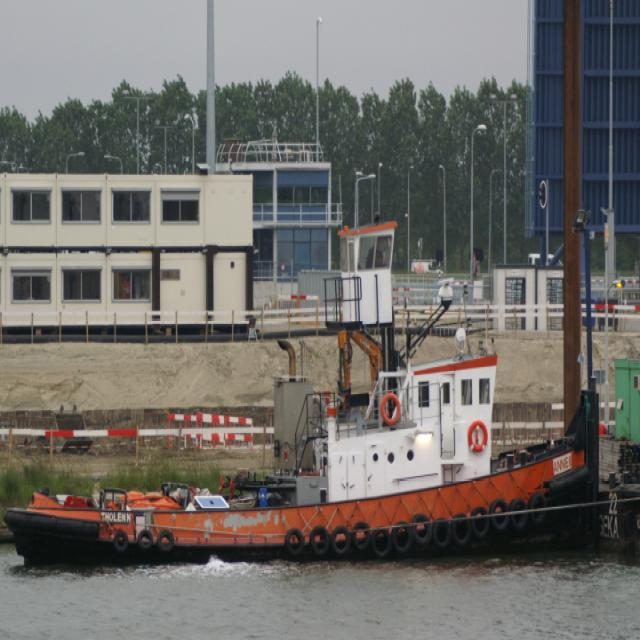tugboat: (3, 216, 607, 599)
